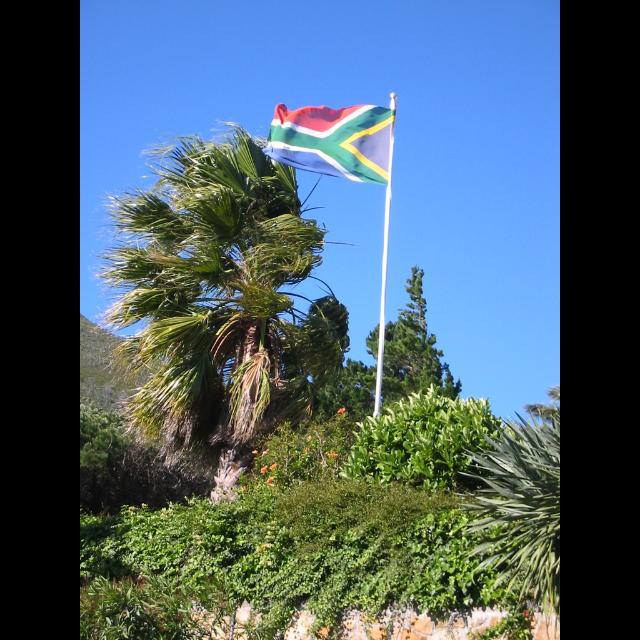Flower: (326, 450, 338, 460), (334, 408, 348, 414), (260, 464, 266, 474)
